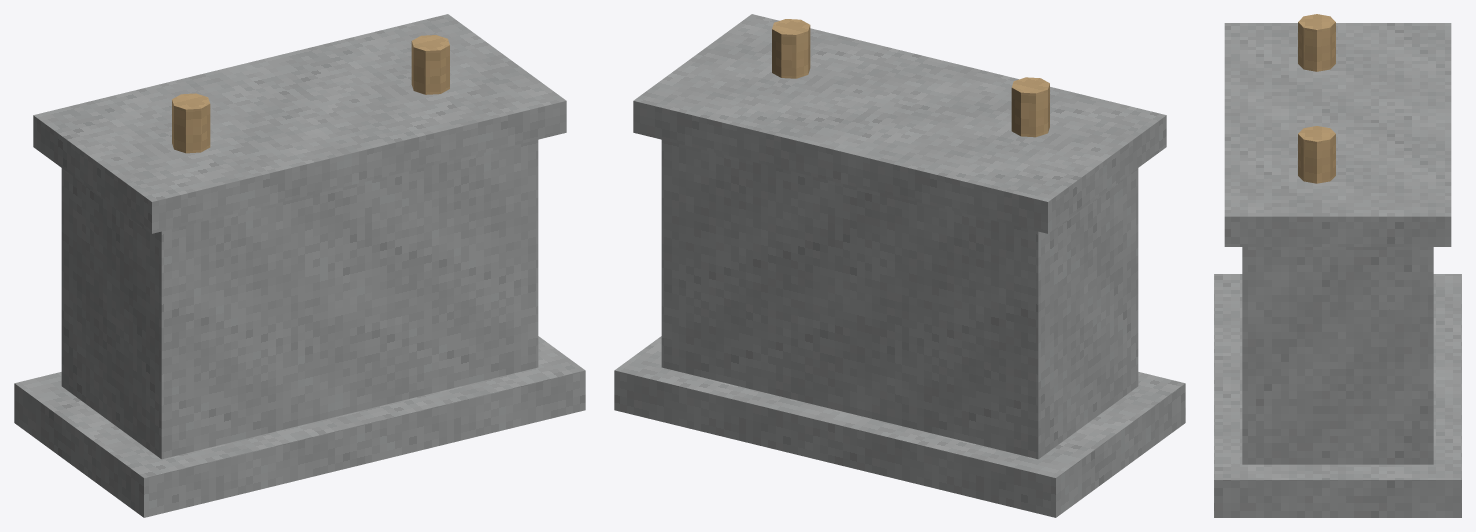
The model's file is level_blockout_stone_altar.glb.
The picture shows the model from 3 angles, left to right: view 1: azimuth 30°, elevation 25°; view 2: azimuth 150°, elevation 25°; view 3: azimuth 270°, elevation 25°; orthographic projection. The views are drawn at different scales.
Parts seen in each view (by area): view 1: level_blockout_stone_altar; view 2: level_blockout_stone_altar; view 3: level_blockout_stone_altar.
Boxes of the visible parts, x1=… form: level_blockout_stone_altar: x1=14, y1=14, x2=585, y2=517; level_blockout_stone_altar: x1=614, y1=14, x2=1185, y2=517; level_blockout_stone_altar: x1=1214, y1=14, x2=1461, y2=517.
Bounding box in the file's own units: 2.32 × 1.77 × 1.18.
Materials: 2 (2 with a texture image).
